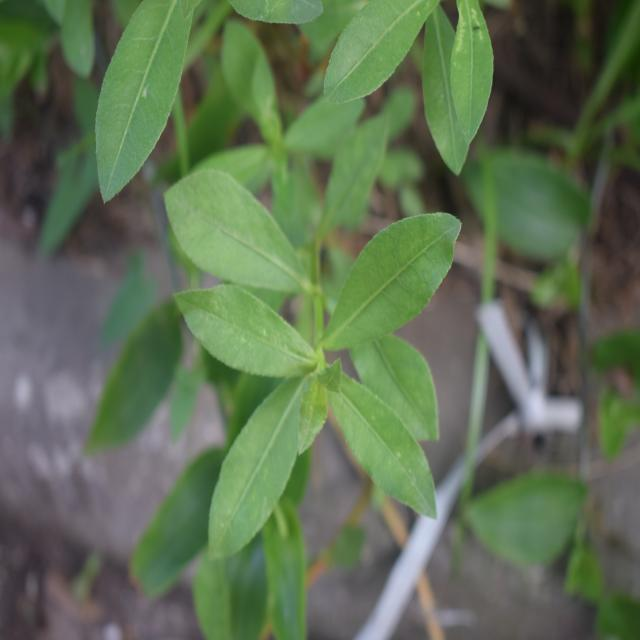Alligatorweed: (166, 159, 459, 525)
